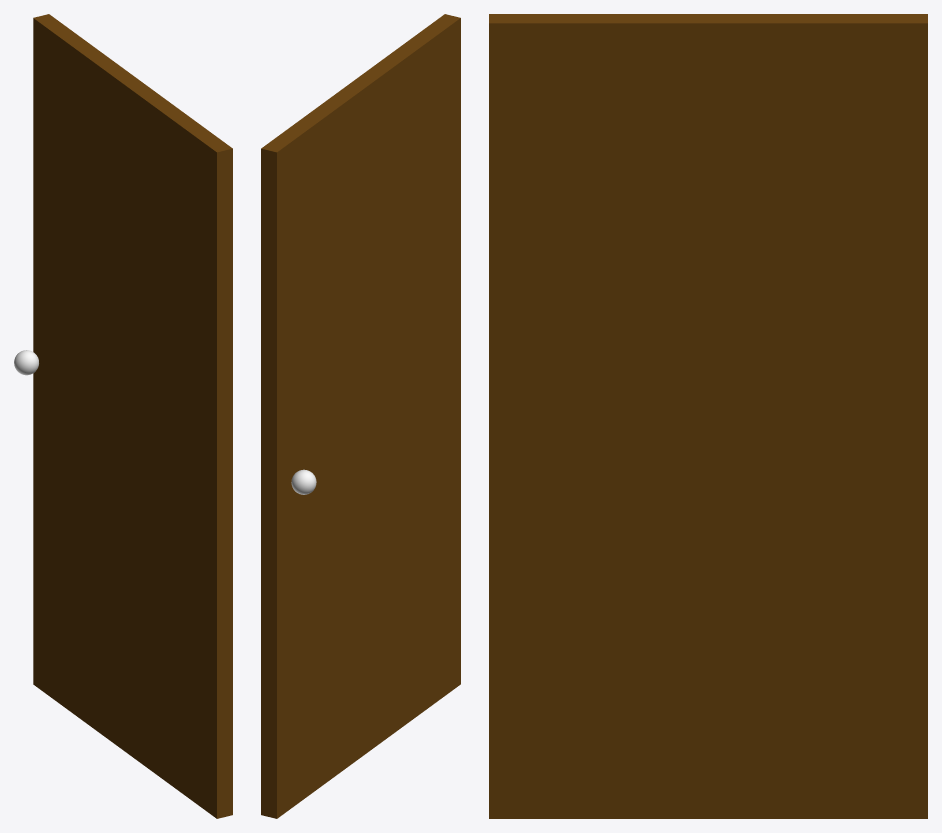
File: Door.fbx
The picture shows the model from 3 angles, left to right: view 1: azimuth 30°, elevation 25°; view 2: azimuth 150°, elevation 25°; view 3: azimuth 270°, elevation 25°; orthographic projection. The views are drawn at different scales.
Visible parts, largest first — view 1: Door, DoorHandle; view 2: Door, DoorHandle; view 3: Door.
Part boxes in pixels (bbox=[...]): Door: bbox=[33, 14, 232, 818]; DoorHandle: bbox=[14, 350, 38, 375]; Door: bbox=[261, 14, 460, 818]; DoorHandle: bbox=[291, 469, 316, 494]; Door: bbox=[489, 14, 927, 818].
Bounding box in the file's own units: 27.38 × 400 × 200.
